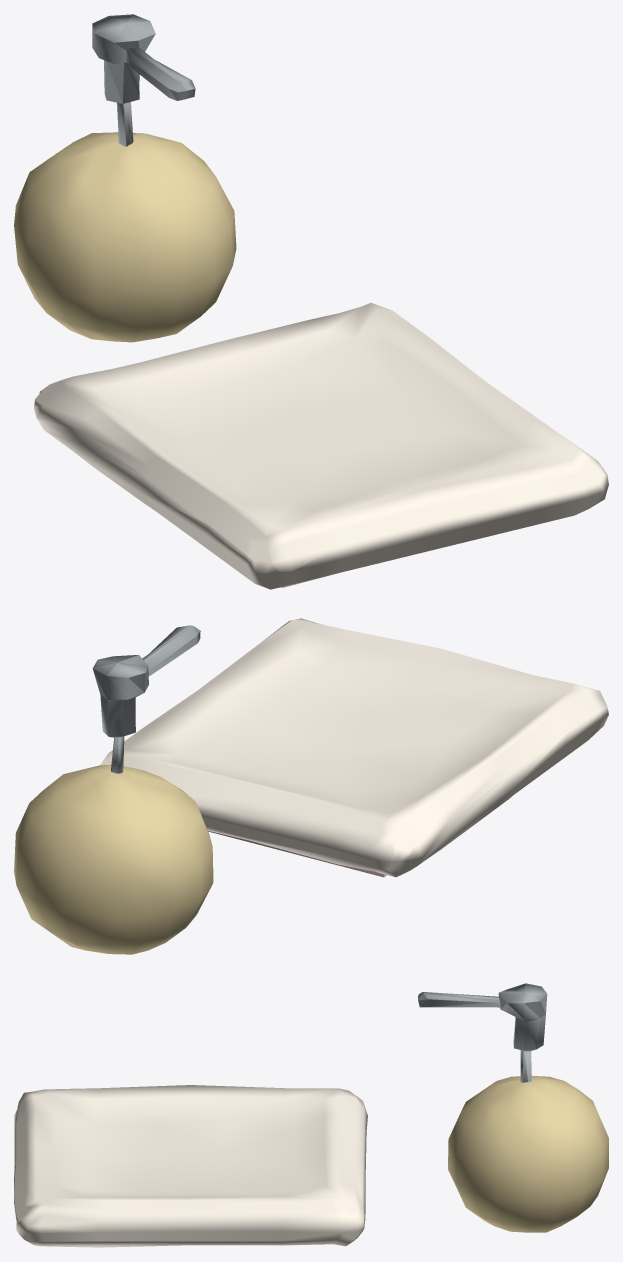
Rendered from bath_soap.glb.
The picture shows the model from 3 angles, top to bottom: view 1: azimuth 30°, elevation 25°; view 2: azimuth 150°, elevation 25°; view 3: azimuth 270°, elevation 25°; orthographic projection. The views are drawn at different scales.
Size of the model in its own units: 0.3 by 0.2464 by 0.5738.
